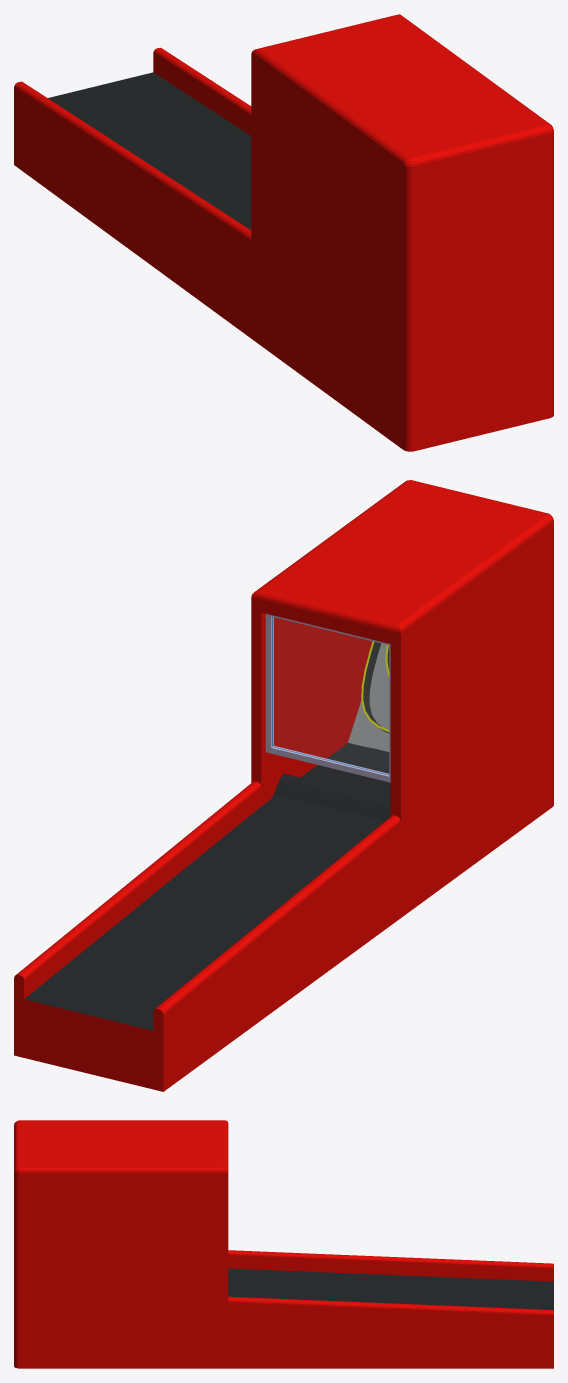
File: SkeBallTable.fbx
3 views of the same model, one above another, from view 1: azimuth 30°, elevation 25°; view 2: azimuth 150°, elevation 25°; view 3: azimuth 270°, elevation 25° (orthographic). The views are drawn at different scales.
Visible parts, largest first — view 1: SkeBallTableCabinet, SkeBallTableFront; view 2: SkeBallTableCabinet, SkeBallTableFront, Glass, Bump, HoleInset, BarrierBigCurve; view 3: SkeBallTableCabinet, SkeBallTableFront.
Boxes of the visible parts, x1=… form: SkeBallTableCabinet: x1=251, y1=14, x2=553, y2=451; SkeBallTableFront: x1=14, y1=47, x2=251, y2=338; SkeBallTableCabinet: x1=251, y1=480, x2=553, y2=917; SkeBallTableFront: x1=14, y1=781, x2=400, y2=1091; Glass: x1=265, y1=613, x2=390, y2=782; Bump: x1=269, y1=773, x2=390, y2=827; HoleInset: x1=348, y1=643, x2=389, y2=751; BarrierBigCurve: x1=361, y1=641, x2=389, y2=733; SkeBallTableCabinet: x1=14, y1=1120, x2=228, y2=1368; SkeBallTableFront: x1=228, y1=1250, x2=553, y2=1368.
Bounding box in the file's own units: 400 × 744 × 1824.
